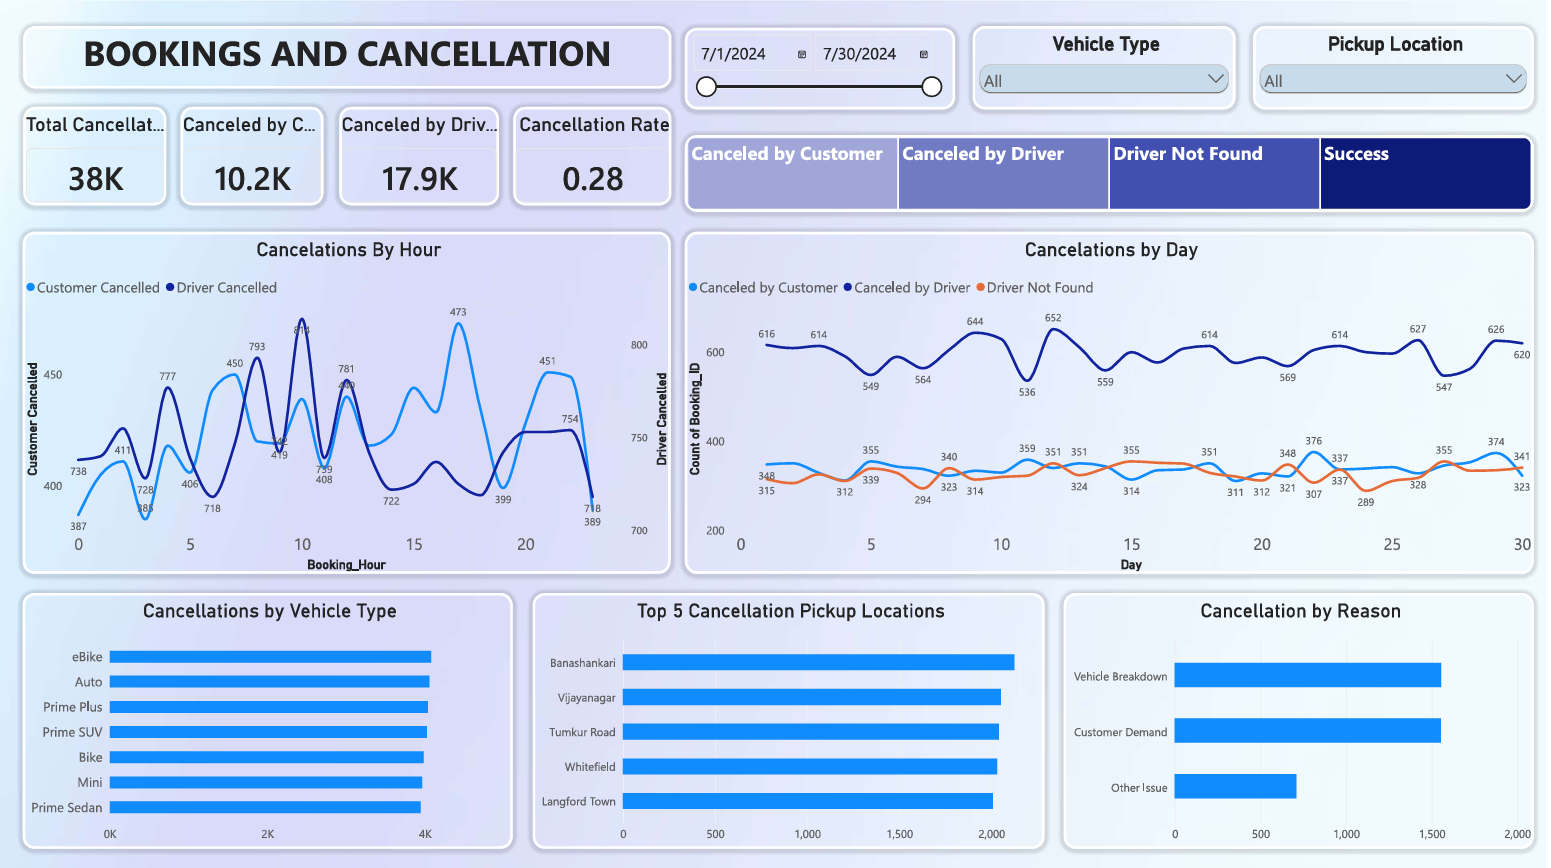

This screenshot's page, from the dashboard's own definition file:
{"tool":"powerbi","page":{"name":"Bookings and Cancellation","canvas":[1920,1080],"ordinal":1},"visuals":[{"type":"slicer","title":"DATE","fields":{"Values":["Bookings.Date"]},"box":[850.5,34.3,335.8,100.5],"z":0},{"type":"textbox","box":[29.5,31.8,804,77.2],"z":1000},{"type":"slicer","title":"Vehicle Type","fields":{"Values":["Bookings.Vehicle_Type"]},"box":[1208.4,31.9,326,102.9],"z":2000},{"type":"cardVisual","title":"Total Cancellations","fields":{"Data":["CountNonNull(Bookings.Booking_ID)"]},"box":[29.5,131.7,177.2,122.7],"z":3000},{"type":"cardVisual","title":"Canceled by Customer","fields":{"Data":["CountNonNull(Bookings.Booking_ID)"]},"box":[224.9,131.7,177.2,122.7],"z":4000},{"type":"cardVisual","title":"Canceled by Driver","fields":{"Data":["CountNonNull(Bookings.Booking_ID)"]},"box":[422.5,131.7,197.6,122.7],"z":5000},{"type":"cardVisual","title":"Cancellation Rate","fields":{"Data":["Bookings.Cancellation Rate"]},"box":[638.2,131.7,195.3,122.7],"z":6000},{"type":"clusteredBarChart","title":"Top 5 Cancellation Pickup Locations","fields":{"Category":["Bookings.Pickup_Location"],"Y":["CountNonNull(Bookings.Booking_ID)"]},"box":[661.8,735.3,634.8,316.2],"z":7000},{"type":"clusteredBarChart","title":"Cancellations by Vehicle Type","fields":{"Category":["Bookings.Vehicle_Type"],"Y":["Bookings.Total Cancellations"]},"box":[29.4,735.3,607.9,316.2],"z":8000},{"type":"barChart","title":"Cancellation by Reason","fields":{"Category":["Bookings.Incomplete_Rides_Reason"],"Y":["CountNonNull(Bookings.Incomplete_Rides)"]},"box":[1321.1,735.3,583.4,316.2],"z":9000},{"type":"lineChart","title":"Cancelations By Hour","fields":{"Category":["Bookings.Booking_Hour"],"Y":["Bookings.Customer Cancelled"],"Y2":["Bookings.Driver Cancelled"]},"box":[29.4,286.8,804,424],"z":10000},{"type":"treemap","fields":{"Group":["Bookings.Booking_Status"],"Values":["Count(Bookings.Booking_Status)"]},"box":[850.5,166.7,1054,95.6],"z":11000},{"type":"lineChart","title":"Cancelations by Day","fields":{"Category":["Bookings.Date.Variation.Date Hierarchy.Day"],"Series":["Bookings.Booking_Status"],"Y":["CountNonNull(Bookings.Booking_ID)"]},"box":[850.5,286.8,1054,424],"z":12000},{"type":"slicer","title":"Pickup Location","fields":{"Values":["Bookings.Pickup_Location"]},"box":[1556.4,31.9,348.1,102.9],"z":13000}]}

Visuals, with their boxes in screenshot pixels (x1, y1, x2, y2), scaled from the page's 1920x1080 canvas onto the 1551x868 screenshot:
"DATE" slicer: rect(687, 28, 958, 108)
textbox: rect(24, 26, 673, 88)
"Vehicle Type" slicer: rect(976, 26, 1240, 108)
"Total Cancellations" cardVisual: rect(24, 106, 167, 204)
"Canceled by Customer" cardVisual: rect(182, 106, 325, 204)
"Canceled by Driver" cardVisual: rect(341, 106, 501, 204)
"Cancellation Rate" cardVisual: rect(516, 106, 673, 204)
"Top 5 Cancellation Pickup Locations" clusteredBarChart: rect(535, 591, 1047, 845)
"Cancellations by Vehicle Type" clusteredBarChart: rect(24, 591, 515, 845)
"Cancellation by Reason" barChart: rect(1067, 591, 1538, 845)
"Cancelations By Hour" lineChart: rect(24, 231, 673, 571)
treemap - Bookings.Booking_Status x Count(Bookings.Booking_Status): rect(687, 134, 1538, 211)
"Cancelations by Day" lineChart: rect(687, 231, 1538, 571)
"Pickup Location" slicer: rect(1257, 26, 1538, 108)
